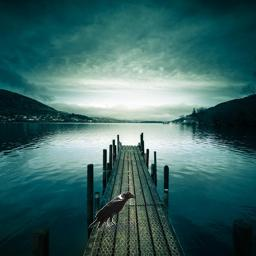Crow: (87, 190, 135, 231)
